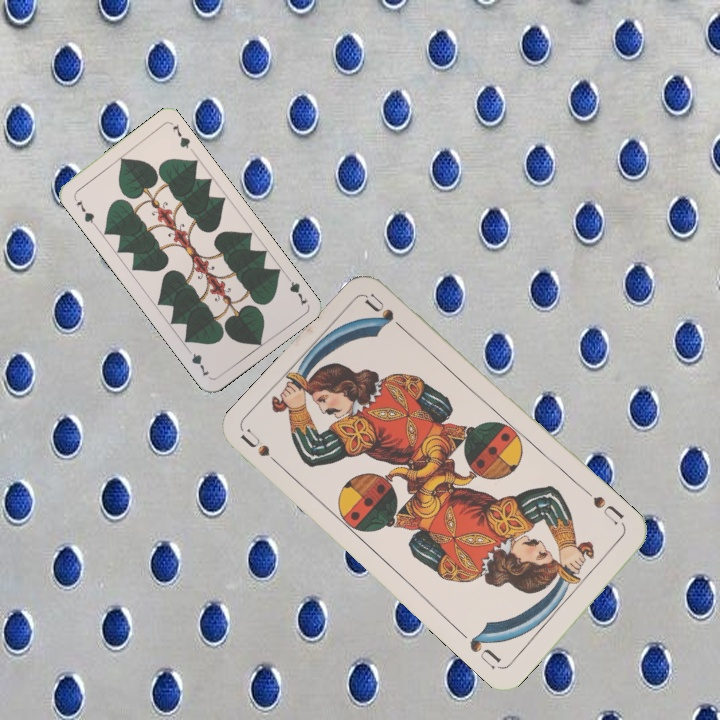G7: (281, 271, 311, 308), (72, 196, 99, 228)
SU: (238, 427, 288, 474), (582, 486, 627, 527)
